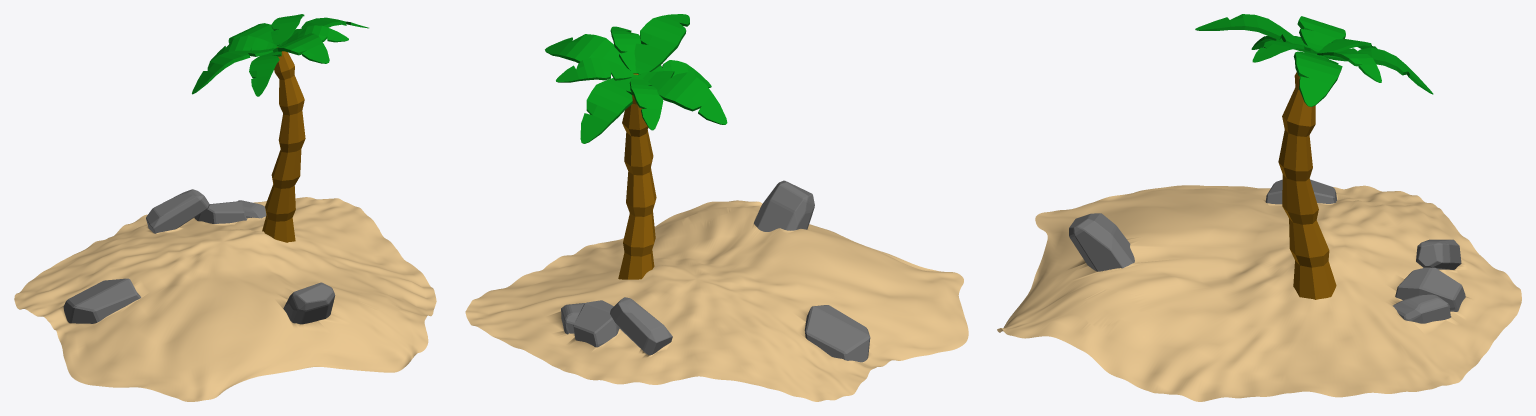
Rendered from island(LOD_0).fbx.
3 views of the same model, side by side, from view 1: azimuth 30°, elevation 25°; view 2: azimuth 150°, elevation 25°; view 3: azimuth 270°, elevation 25° (orthographic). The views are drawn at different scales.
Parts seen in each view (by area): view 1: Камни, Пальма; view 2: Камни, Пальма; view 3: Камни, Пальма.
Part boxes in pixels (<box>): Камни: <box>14,189,436,401</box>; Пальма: <box>192,14,368,242</box>; Камни: <box>465,180,968,401</box>; Пальма: <box>545,14,727,279</box>; Камни: <box>997,179,1521,401</box>; Пальма: <box>1195,14,1433,299</box>.
Size of the model in its own units: 1476 by 979 by 1449.
